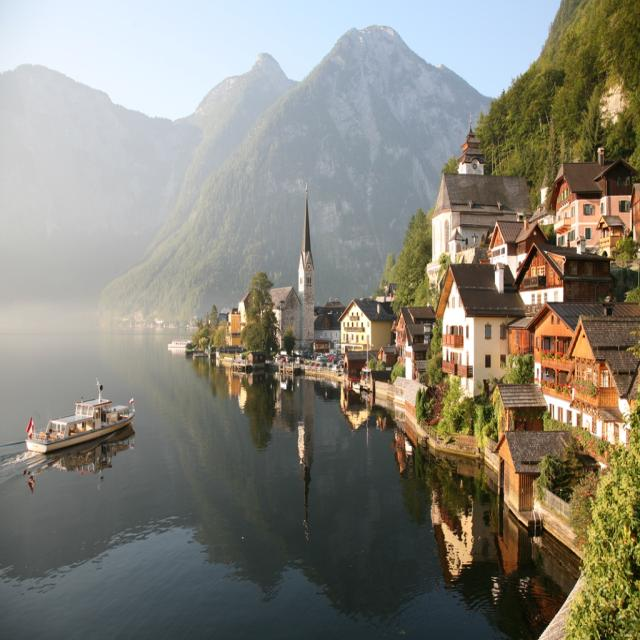Boat: (12, 382, 142, 474)
